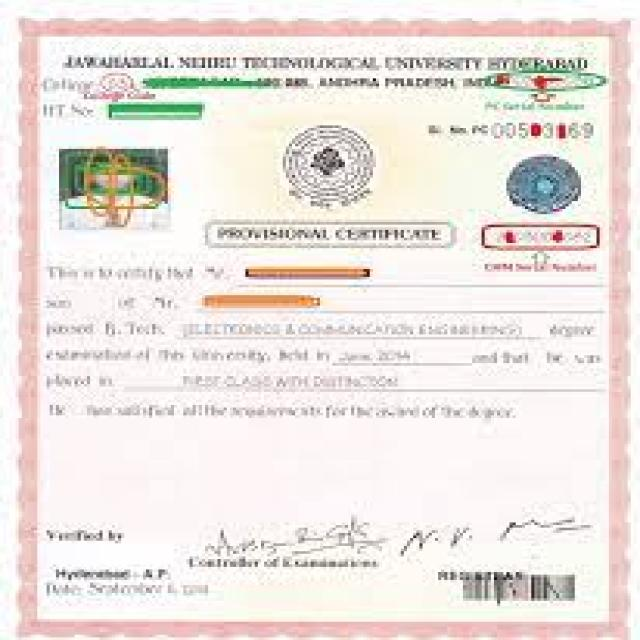signature: (204, 520, 618, 552)
stamp: (280, 121, 388, 213)
